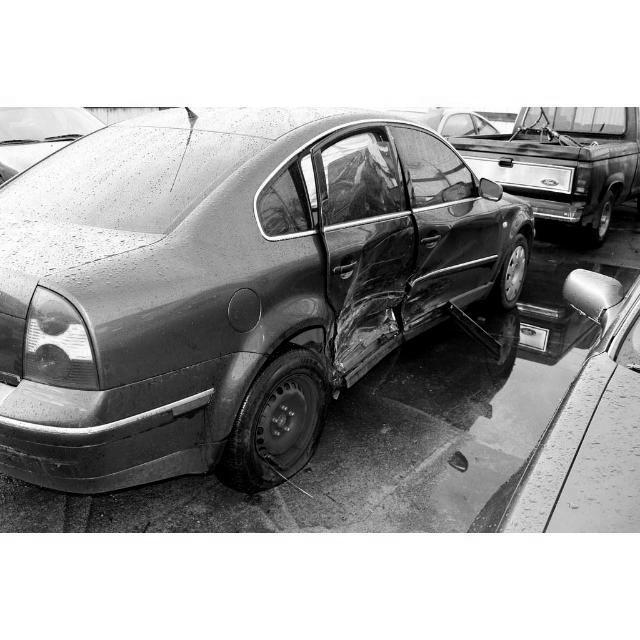Runningboard-Damage: (333, 337, 404, 394)
doorouter-dent: (330, 225, 421, 341), (420, 206, 500, 307)
